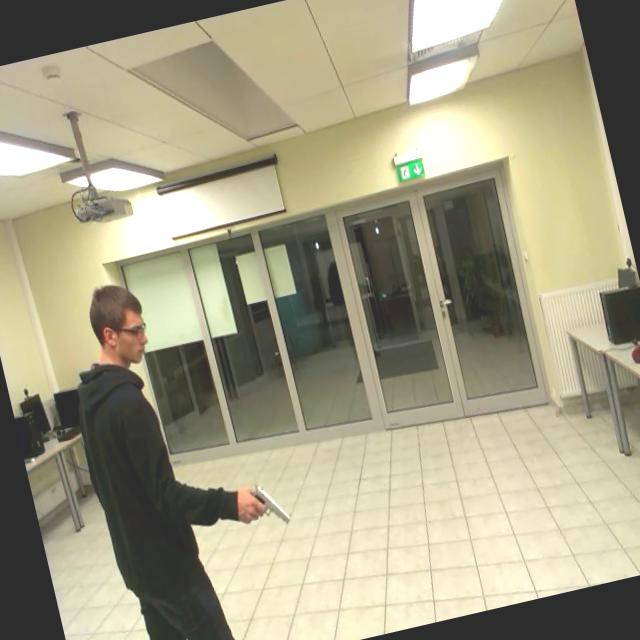handgun: (238, 464, 304, 540)
